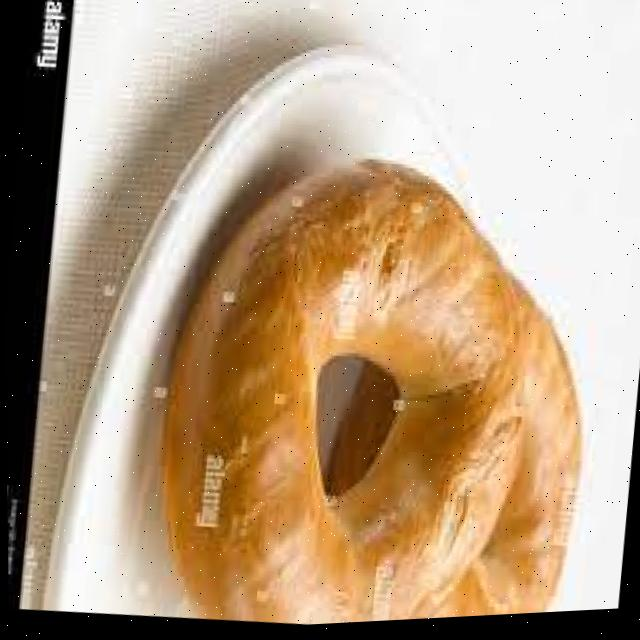Bagel: (165, 165, 527, 626)
